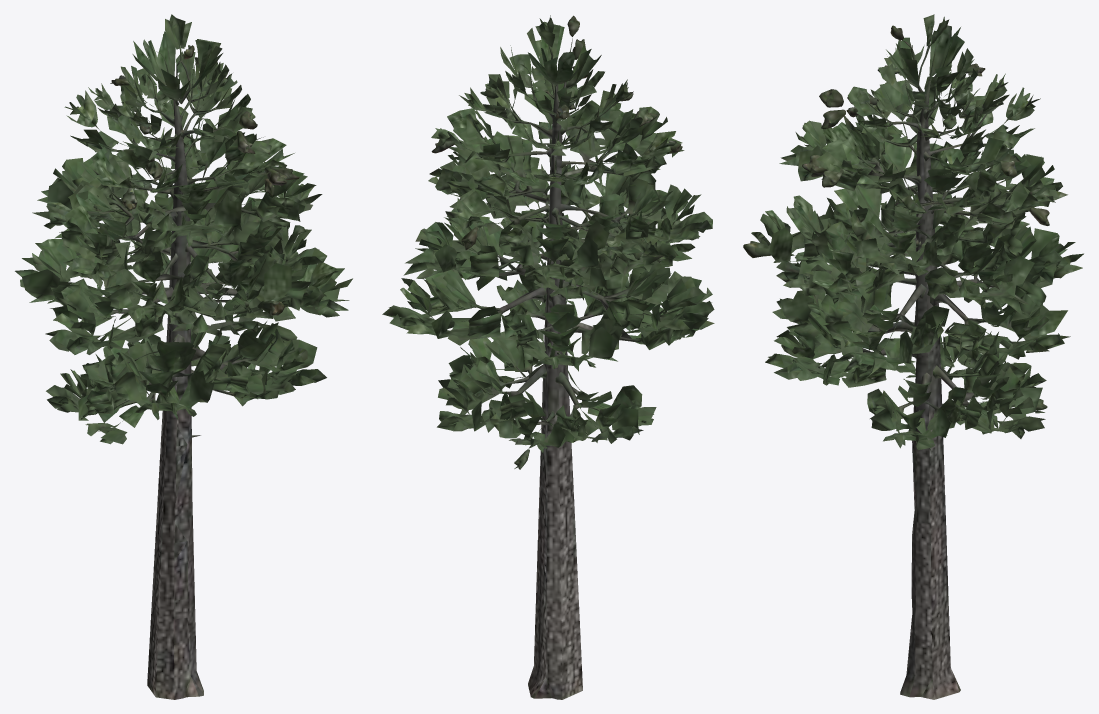
File: tree.glb
3 views of the same model, side by side, from view 1: azimuth 30°, elevation 25°; view 2: azimuth 150°, elevation 25°; view 3: azimuth 270°, elevation 25° (orthographic).
Visible parts, largest first — view 1: tripo_node_a7d0729d-1e6e-484a-bb20-d153e151f9f2; view 2: tripo_node_a7d0729d-1e6e-484a-bb20-d153e151f9f2; view 3: tripo_node_a7d0729d-1e6e-484a-bb20-d153e151f9f2.
Part boxes in pixels (x1=…): tripo_node_a7d0729d-1e6e-484a-bb20-d153e151f9f2: x1=15, y1=14, x2=352, y2=699; tripo_node_a7d0729d-1e6e-484a-bb20-d153e151f9f2: x1=382, y1=15, x2=714, y2=699; tripo_node_a7d0729d-1e6e-484a-bb20-d153e151f9f2: x1=743, y1=14, x2=1083, y2=699.
Bounding box in the file's own units: 0.4438 × 0.9995 × 0.4584.
Materials: 1 (1 with a texture image).
